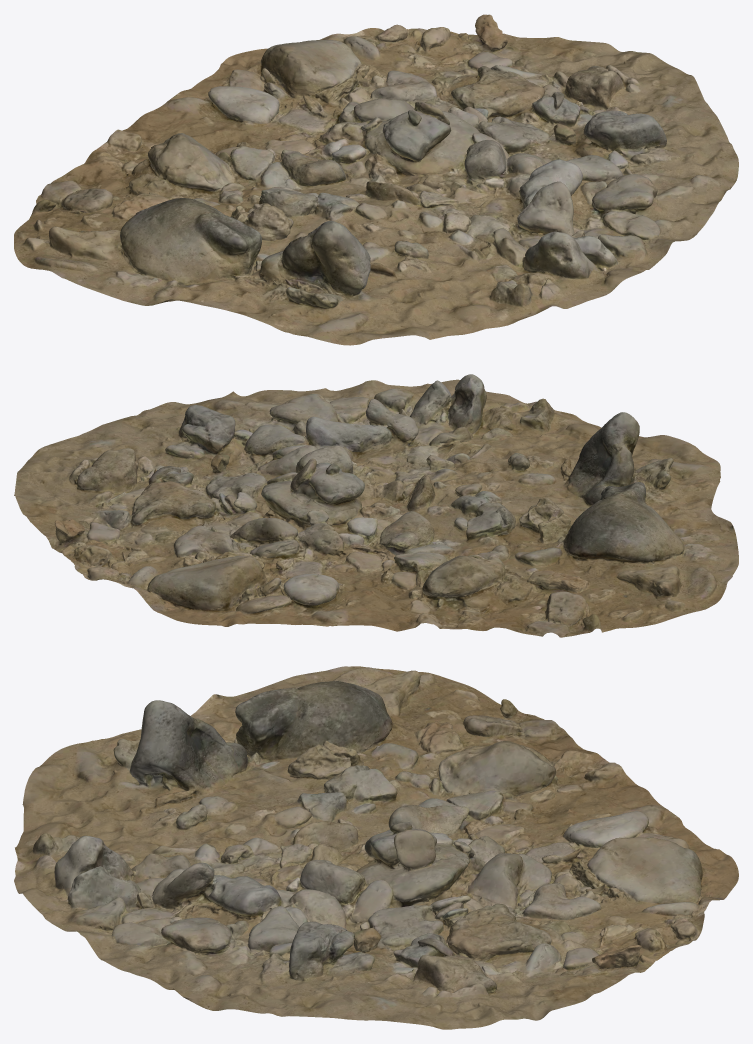
The model's file is sand_rocks_small_01.glb.
3 renders of one model, top to bottom at view 1: azimuth 30°, elevation 25°; view 2: azimuth 150°, elevation 25°; view 3: azimuth 270°, elevation 25°, orthographic. The views are drawn at different scales.
Visible parts, largest first — view 1: sand_rocks_small_01_LOD0; view 2: sand_rocks_small_01_LOD0; view 3: sand_rocks_small_01_LOD0.
Boxes of the visible parts, left/top/right/bottom form: sand_rocks_small_01_LOD0: left=14, top=14, right=738, bottom=345; sand_rocks_small_01_LOD0: left=14, top=374, right=738, bottom=637; sand_rocks_small_01_LOD0: left=14, top=666, right=738, bottom=1029.
Size of the model in its own units: 4.63 by 0.5337 by 3.88.
Materials: 1 (1 with a texture image).
